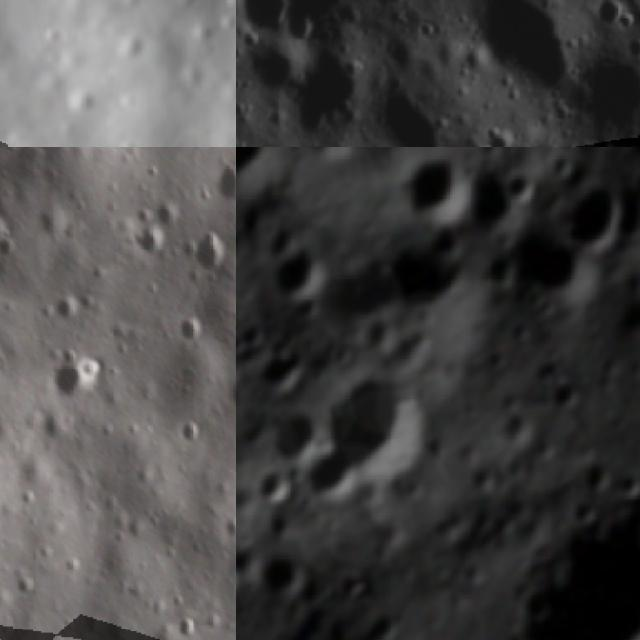crater: (312, 347, 446, 489), (299, 230, 422, 350), (378, 225, 488, 331), (500, 227, 616, 324), (466, 0, 578, 99), (535, 164, 640, 263), (385, 147, 474, 239), (264, 234, 338, 325), (448, 161, 528, 244), (244, 536, 322, 617), (290, 440, 366, 510), (261, 396, 332, 470), (236, 147, 302, 216), (584, 53, 640, 128), (375, 316, 441, 377), (251, 338, 312, 403), (34, 349, 94, 407), (339, 466, 394, 520), (597, 282, 640, 351), (248, 458, 302, 512), (491, 402, 544, 454), (570, 451, 622, 502), (185, 226, 231, 281), (118, 217, 168, 264), (516, 580, 560, 631), (458, 453, 505, 500), (500, 159, 541, 211), (559, 488, 605, 530), (360, 603, 408, 640), (546, 377, 590, 417), (236, 0, 289, 32), (236, 313, 272, 359), (173, 306, 210, 350), (207, 157, 236, 210), (236, 528, 253, 612), (505, 315, 539, 352), (0, 198, 19, 263), (170, 412, 202, 450), (611, 467, 640, 505), (154, 193, 182, 231), (482, 124, 522, 147), (300, 147, 360, 162), (236, 348, 252, 402), (219, 371, 236, 413), (493, 624, 535, 640), (615, 8, 640, 34), (357, 0, 417, 10), (462, 137, 496, 147), (590, 140, 619, 147)
